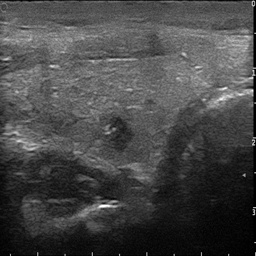mass: (105, 114, 135, 149)
